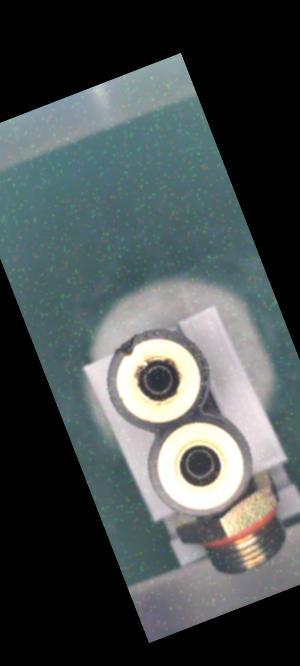bump: (107, 331, 143, 366)
